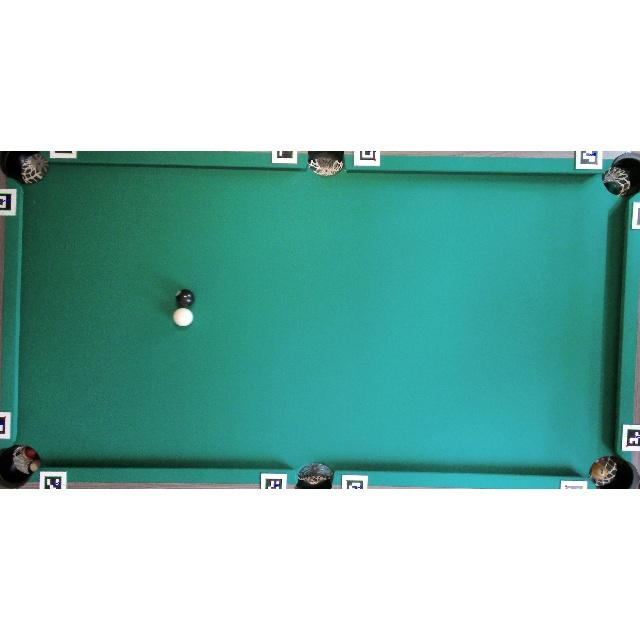cue ball: (172, 306, 194, 327)
other: (175, 288, 195, 308)
